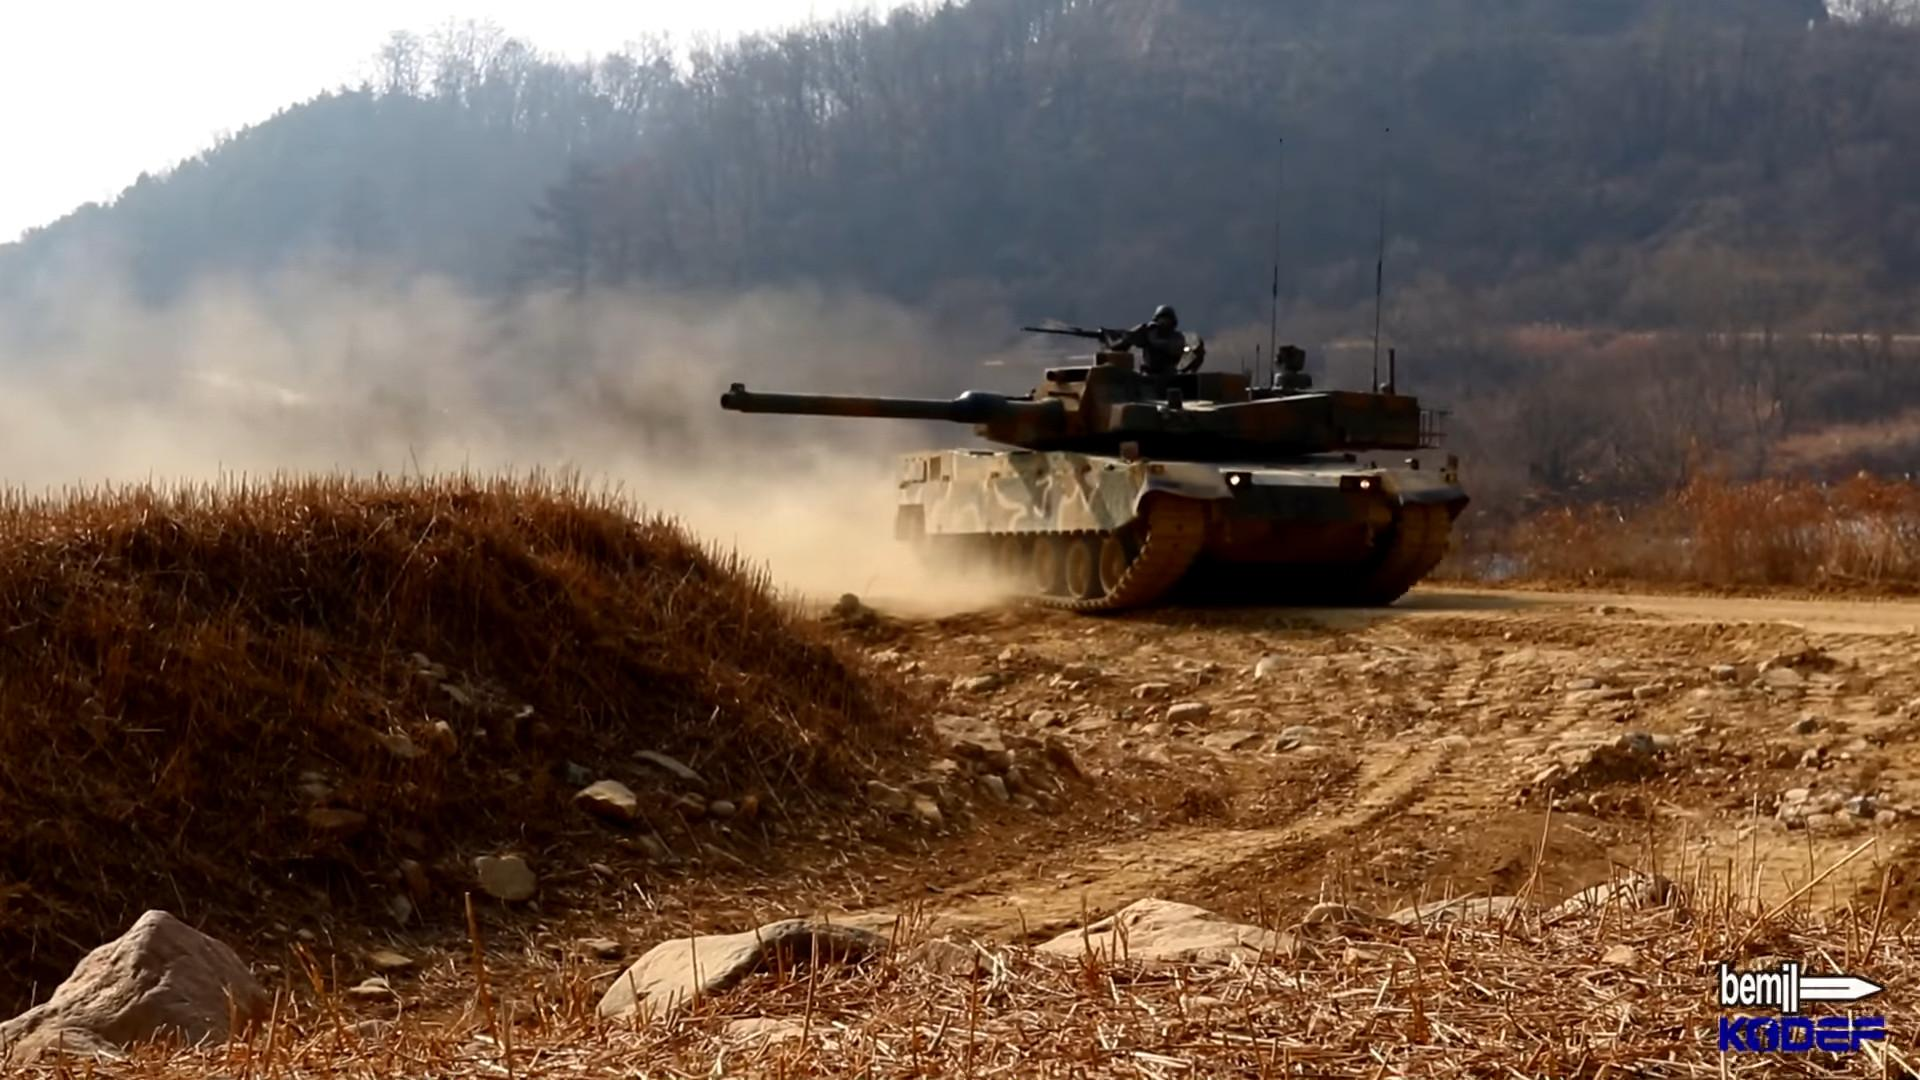tank: (721, 331, 1468, 610)
